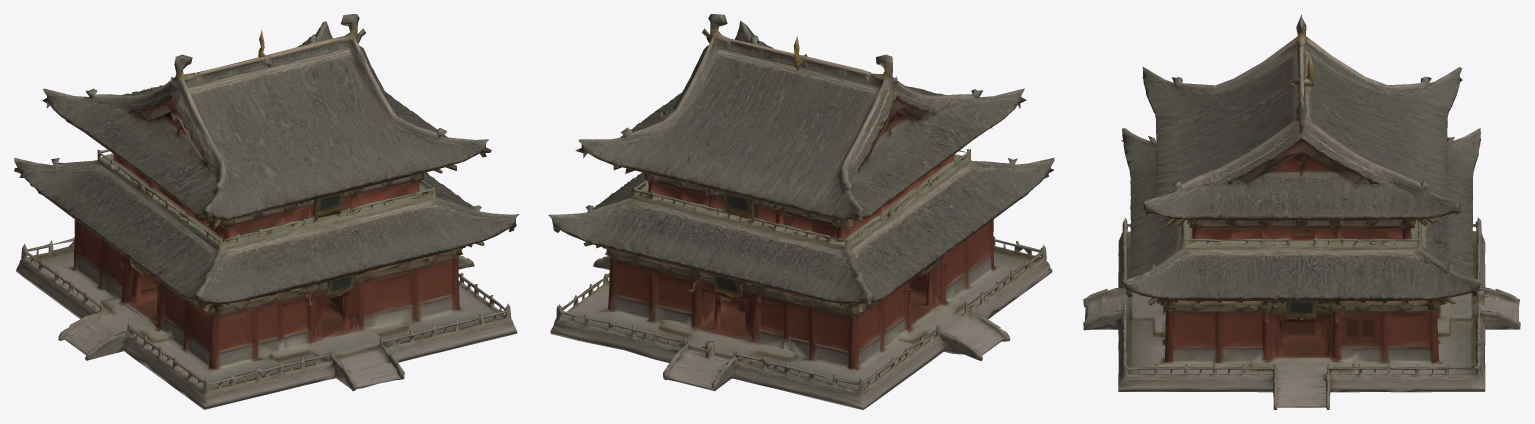
Rendered from building-huayansi.glb.
The picture shows the model from 3 angles, left to right: view 1: azimuth 30°, elevation 25°; view 2: azimuth 150°, elevation 25°; view 3: azimuth 270°, elevation 25°; orthographic projection. The views are drawn at different scales.
Visible parts, largest first — view 1: node_c8000b40-12c4-4183-b379-727cea79efad; view 2: node_c8000b40-12c4-4183-b379-727cea79efad; view 3: node_c8000b40-12c4-4183-b379-727cea79efad.
Part boxes in pixels (box(x1,y1,x2,y2)): node_c8000b40-12c4-4183-b379-727cea79efad: box(14, 14, 519, 409); node_c8000b40-12c4-4183-b379-727cea79efad: box(548, 14, 1054, 409); node_c8000b40-12c4-4183-b379-727cea79efad: box(1083, 15, 1520, 409).
Size of the model in its own units: 0.9964 by 0.6643 by 1.
Materials: 1 (1 with a texture image).
